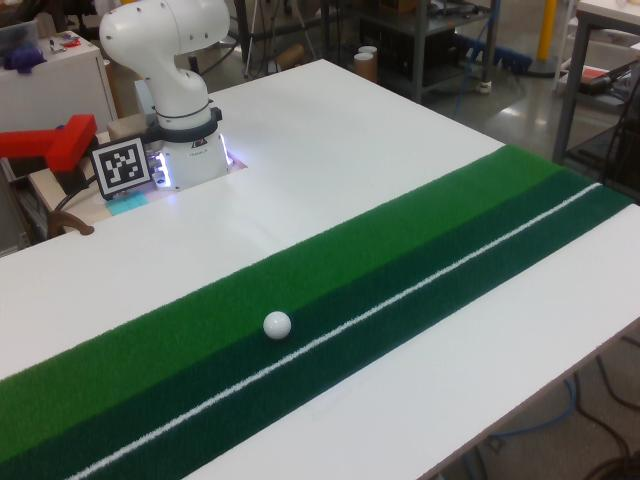golf_balls: (264, 311, 291, 339)
